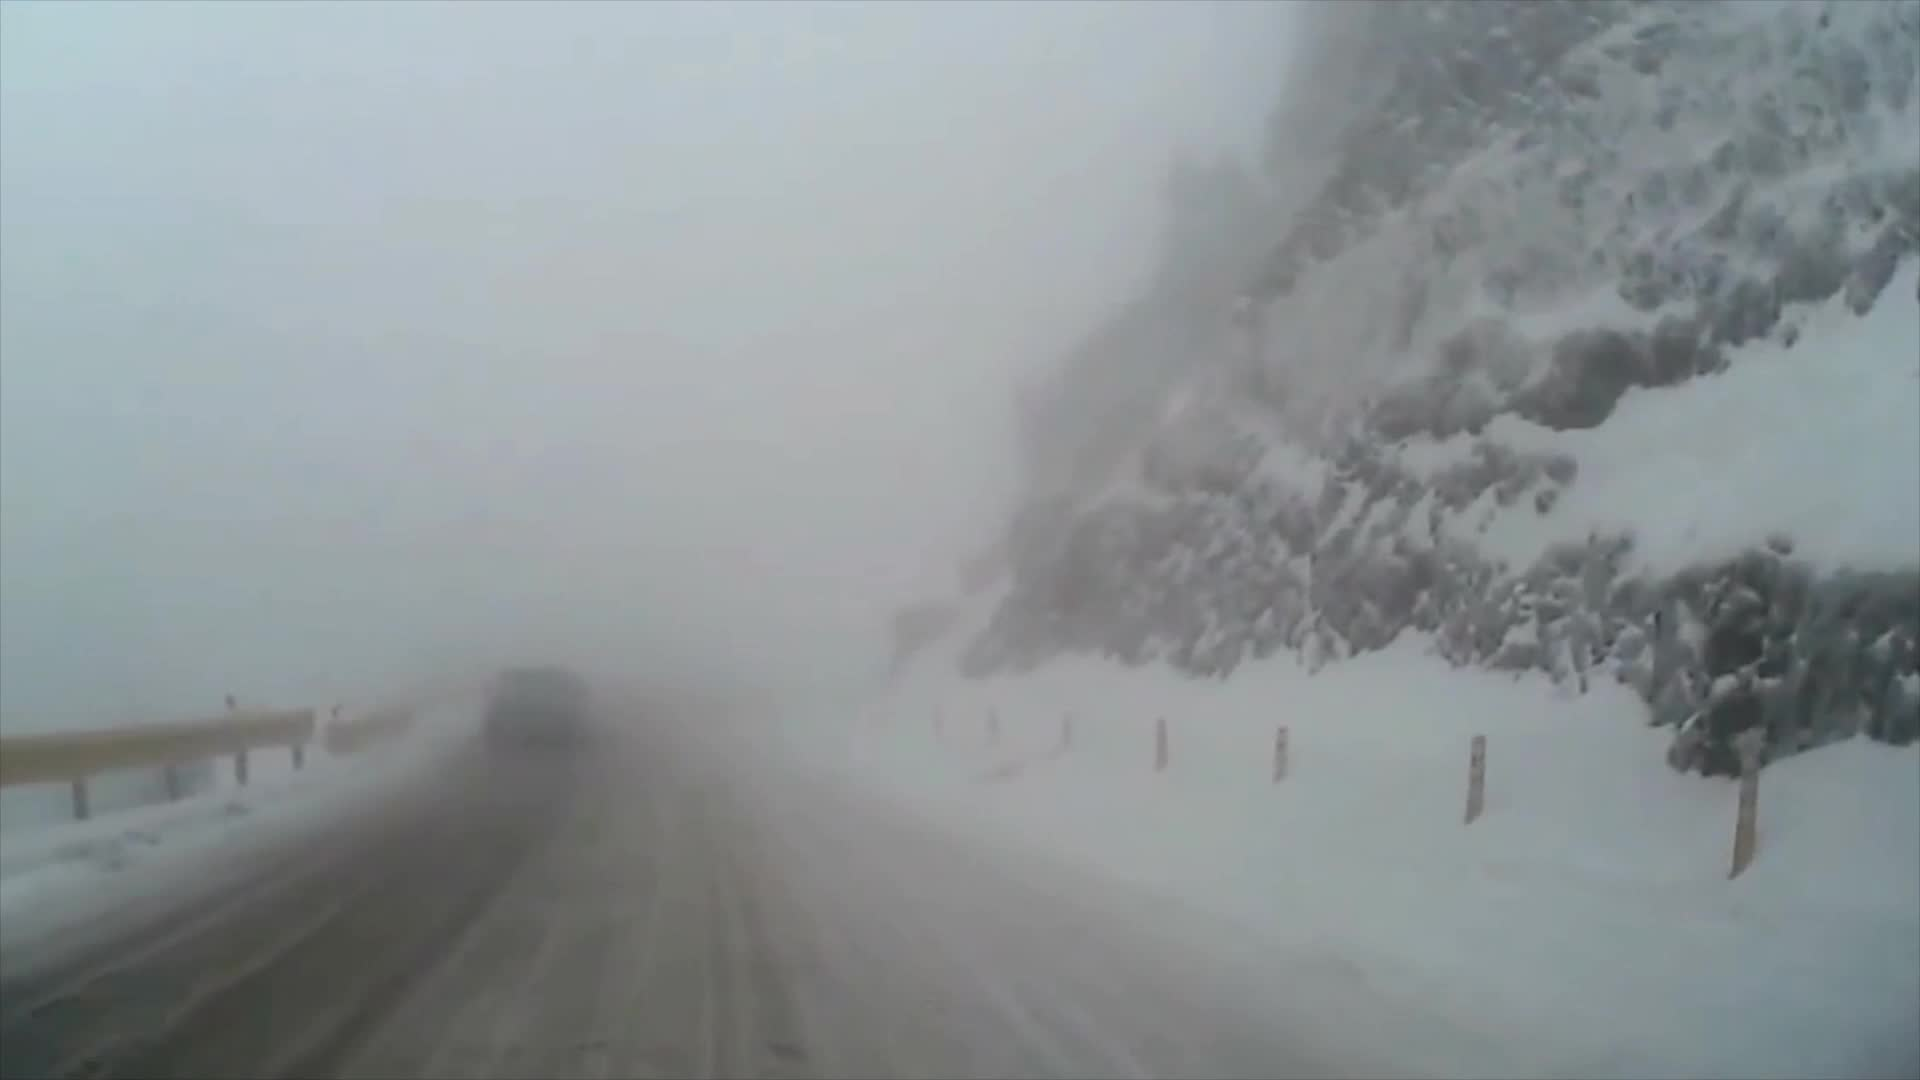vehicle: (483, 663, 591, 753)
